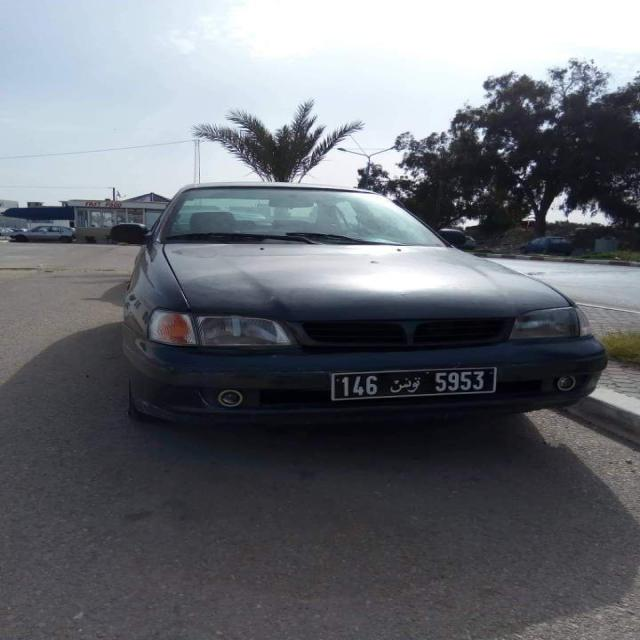LP: (330, 368, 493, 399)
